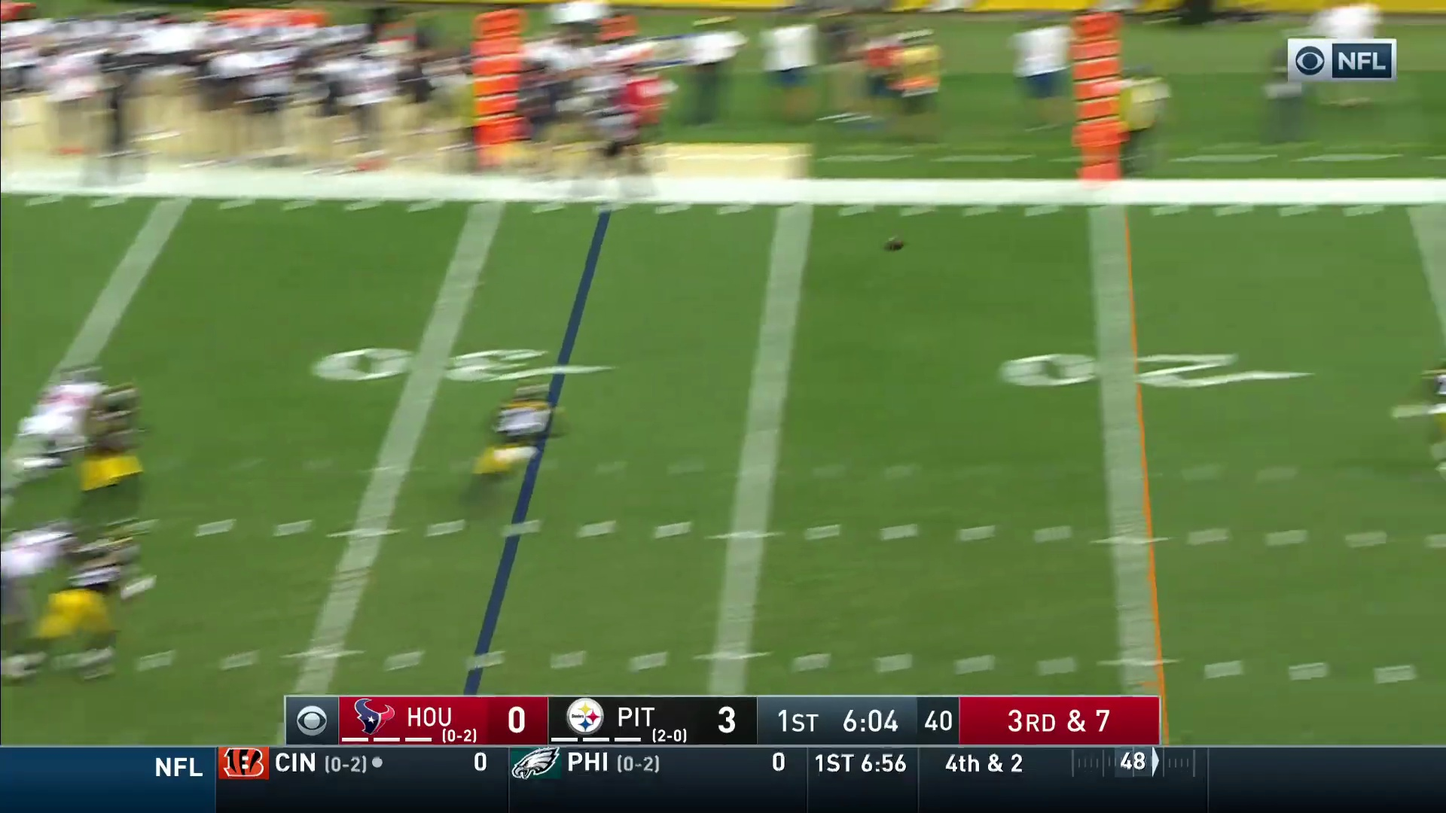Player: (11, 379, 94, 473), (81, 383, 145, 494), (41, 561, 119, 651), (1, 530, 45, 648)
